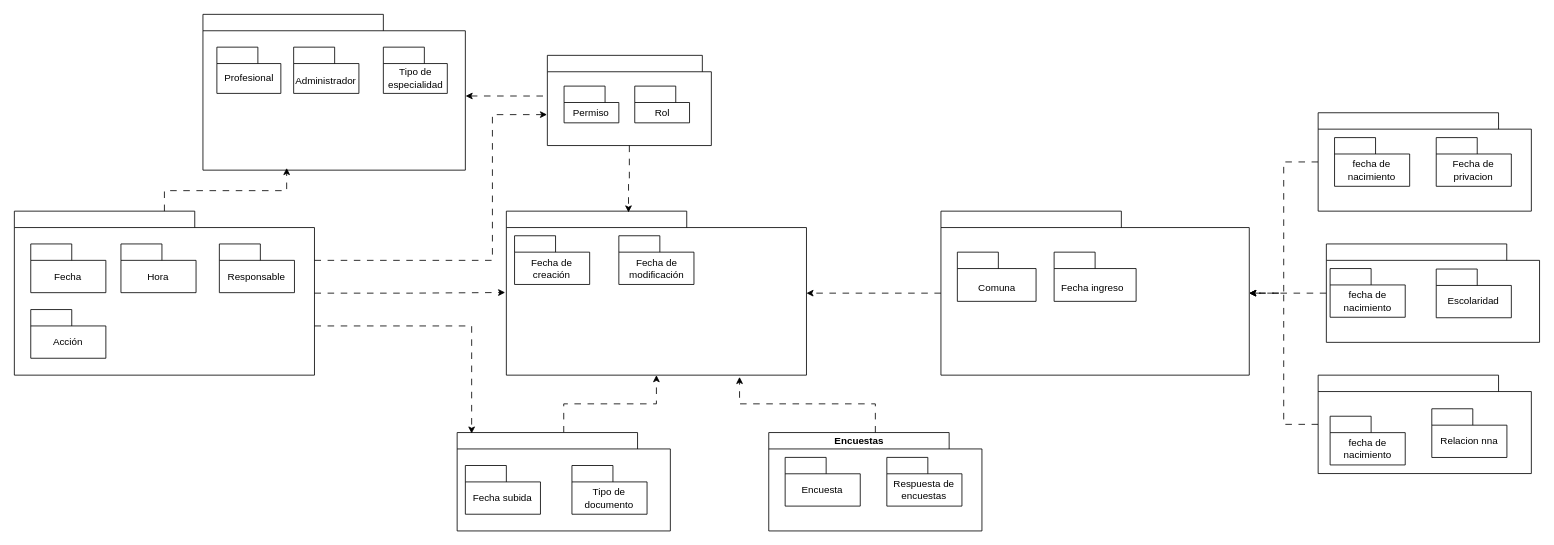
Image size: 1554x545. Some labels were removed from this diagram. Each missing label, with the box of its shape:
Adulto privado de libertad: (1317, 112, 1531, 211)
Capa de casos: (506, 210, 806, 375)
Capa de historial: (14, 210, 314, 375)
Capa de permisos: (547, 55, 711, 146)
Capa de personas: (940, 210, 1249, 375)
Capa de usuarios profesionales: (202, 14, 465, 170)
Cuidador: (1317, 374, 1531, 474)
Documentos: (456, 432, 670, 531)
NNA: (1326, 243, 1540, 342)
